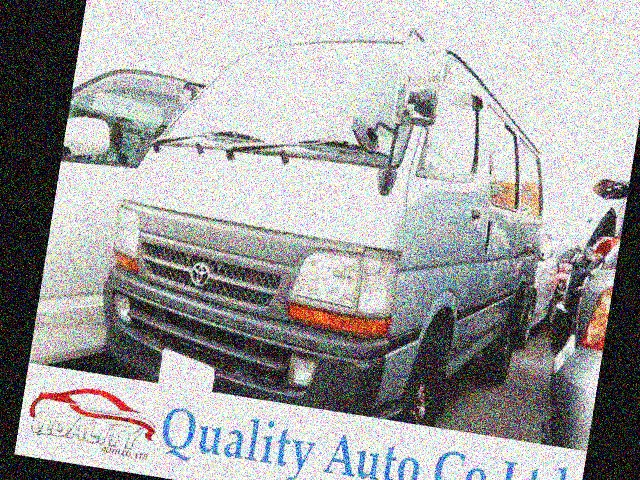van: (95, 0, 579, 450)
